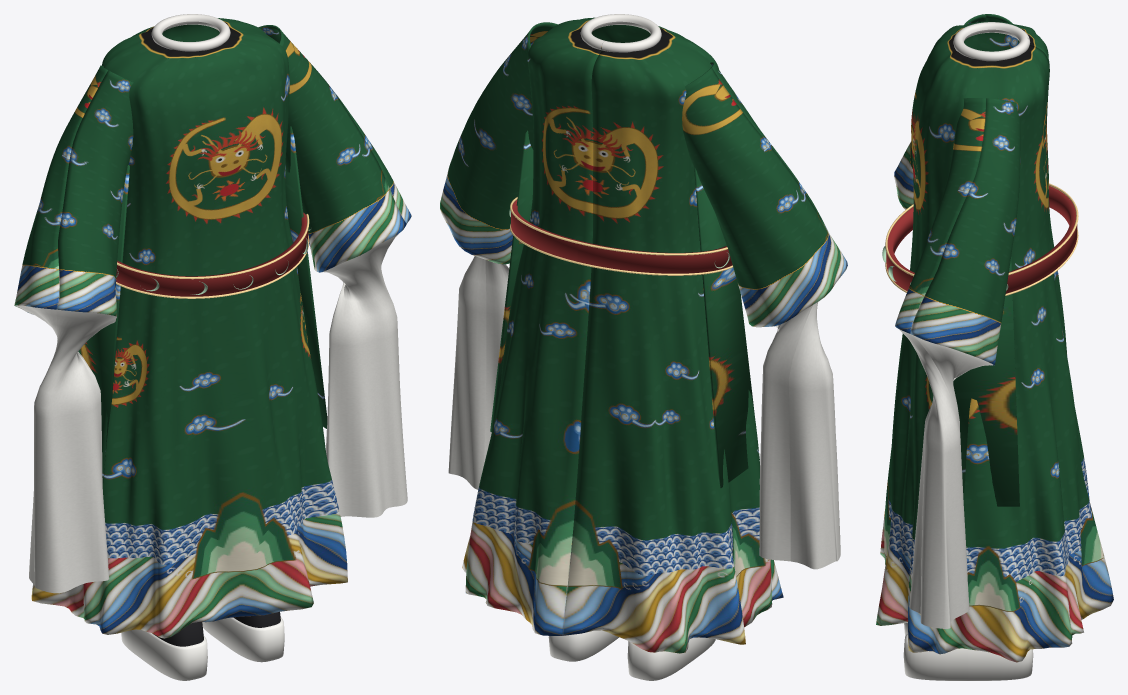
Rendered from costume_guanyu.glb.
3 views of the same model, side by side, from view 1: azimuth 30°, elevation 25°; view 2: azimuth 150°, elevation 25°; view 3: azimuth 270°, elevation 25° (orthographic). The views are drawn at different scales.
Visible parts, largest first — view 1: Robe, Sleeve-1, Shuixiu-1, Shuixiu1, Sleeve1, Boot_Sole, Yudai, Bai1, Bai-1, Collar, Yudai_Gold, Boot; view 2: Robe, Sleeve-1, Shuixiu-1, Sleeve1, Shuixiu1, Bai-1, Yudai, Boot_Sole, Bai1, Collar, Yudai_Gold; view 3: Robe, Sleeve1, Shuixiu1, Bai1, Boot_Sole, Yudai, Collar, Sleeve-1, Yudai_Gold.
Boxes of the visible parts, x1=… form: Robe: x1=31, y1=18, x2=347, y2=638; Sleeve-1: x1=14, y1=65, x2=133, y2=316; Shuixiu-1: x1=14, y1=305, x2=116, y2=593; Shuixiu1: x1=322, y1=234, x2=407, y2=517; Sleeve1: x1=258, y1=25, x2=411, y2=272; Boot_Sole: x1=121, y1=617, x2=284, y2=680; Yudai: x1=116, y1=212, x2=308, y2=296; Bai1: x1=285, y1=126, x2=327, y2=428; Bai-1: x1=78, y1=165, x2=129, y2=483; Collar: x1=151, y1=14, x2=230, y2=51; Yudai_Gold: x1=116, y1=214, x2=309, y2=298; Boot: x1=152, y1=611, x2=280, y2=646; Robe: x1=462, y1=17, x2=783, y2=653; Sleeve-1: x1=682, y1=62, x2=847, y2=327; Shuixiu-1: x1=759, y1=302, x2=840, y2=569; Sleeve1: x1=440, y1=22, x2=557, y2=264; Shuixiu1: x1=448, y1=256, x2=509, y2=489; Bai-1: x1=694, y1=166, x2=759, y2=487; Yudai: x1=511, y1=200, x2=732, y2=273; Boot_Sole: x1=548, y1=630, x2=715, y2=680; Bai1: x1=490, y1=130, x2=533, y2=431; Collar: x1=580, y1=14, x2=661, y2=52; Yudai_Gold: x1=510, y1=197, x2=732, y2=275; Robe: x1=876, y1=21, x2=1113, y2=662; Sleeve1: x1=895, y1=98, x2=1020, y2=365; Shuixiu1: x1=898, y1=328, x2=992, y2=628; Bai1: x1=953, y1=257, x2=1019, y2=506; Boot_Sole: x1=903, y1=623, x2=1033, y2=680; Yudai: x1=886, y1=186, x2=1077, y2=293; Collar: x1=953, y1=22, x2=1030, y2=61; Sleeve-1: x1=894, y1=14, x2=1019, y2=209; Yudai_Gold: x1=885, y1=183, x2=1078, y2=295.
Size of the model in its own units: 0.9892 by 1.52 by 0.532.
Materials: 8 (2 with a texture image).
